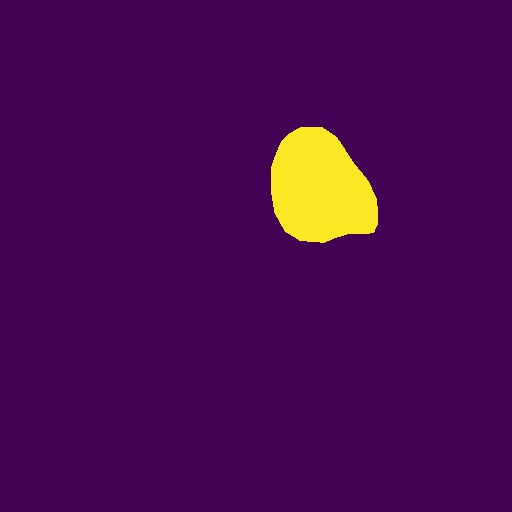Gliomia_tumour: (271, 127, 378, 243)
